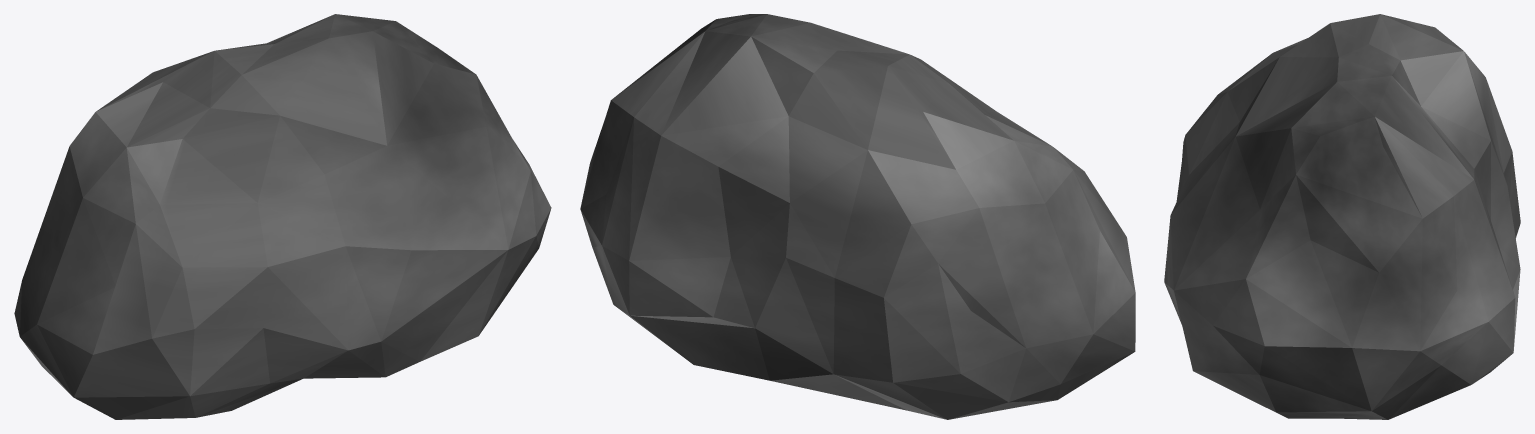
File: Stone4.fbx
3 renders of one model, left to right at view 1: azimuth 30°, elevation 25°; view 2: azimuth 150°, elevation 25°; view 3: azimuth 270°, elevation 25°, orthographic. The views are drawn at different scales.
Visible parts, largest first — view 1: Stone; view 2: Stone; view 3: Stone.
Part boxes in pixels (left/top/right/bottom): Stone: left=14, top=14, right=551, bottom=419; Stone: left=580, top=14, right=1135, bottom=419; Stone: left=1164, top=14, right=1520, bottom=419.
Size of the model in its own units: 474 by 292 by 289.
